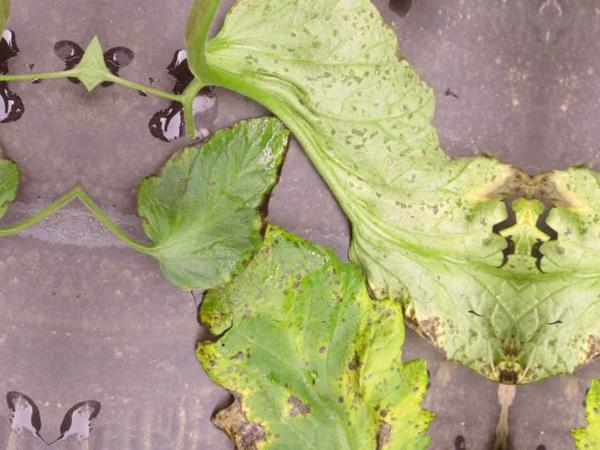Tomato leaf bacterial spot: (178, 206, 443, 450)
